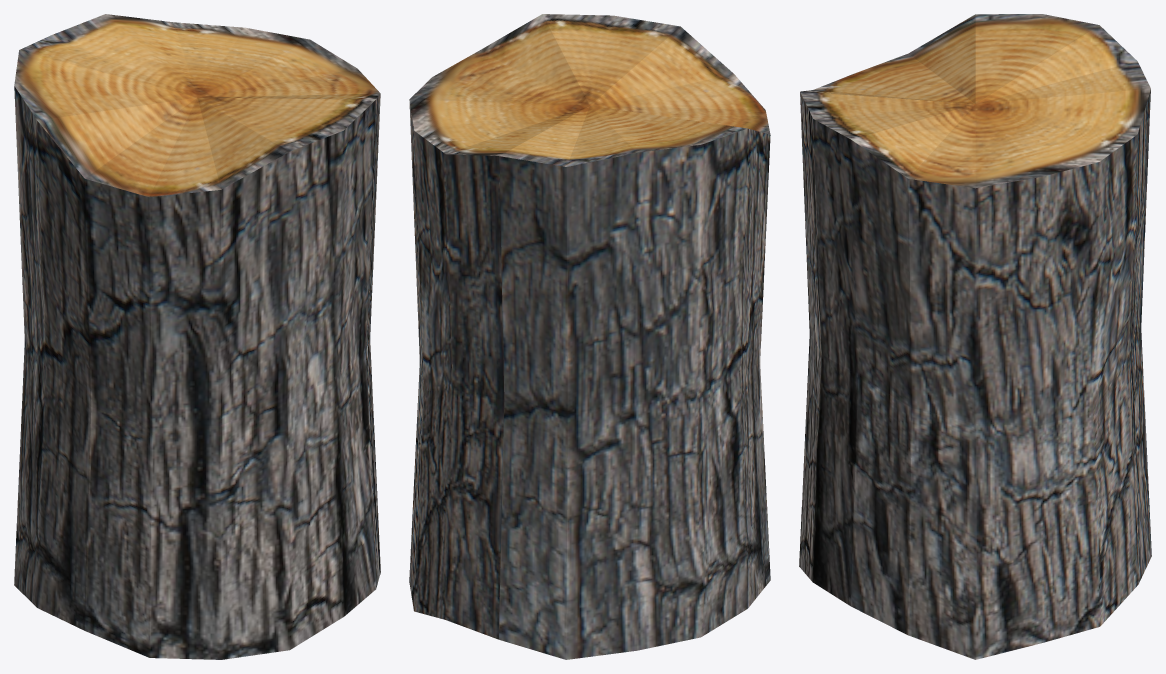
The model's file is yulelog.fbx.
3 renders of one model, left to right at view 1: azimuth 30°, elevation 25°; view 2: azimuth 150°, elevation 25°; view 3: azimuth 270°, elevation 25°, orthographic. The views are drawn at different scales.
Visible parts, largest first — view 1: pCylinder1; view 2: pCylinder1; view 3: pCylinder1.
Part boxes in pixels (<box>): pCylinder1: <box>14,14,380,659</box>; pCylinder1: <box>409,14,770,659</box>; pCylinder1: <box>799,14,1151,659</box>.
Size of the model in its own units: 20 by 20 by 31.76.
